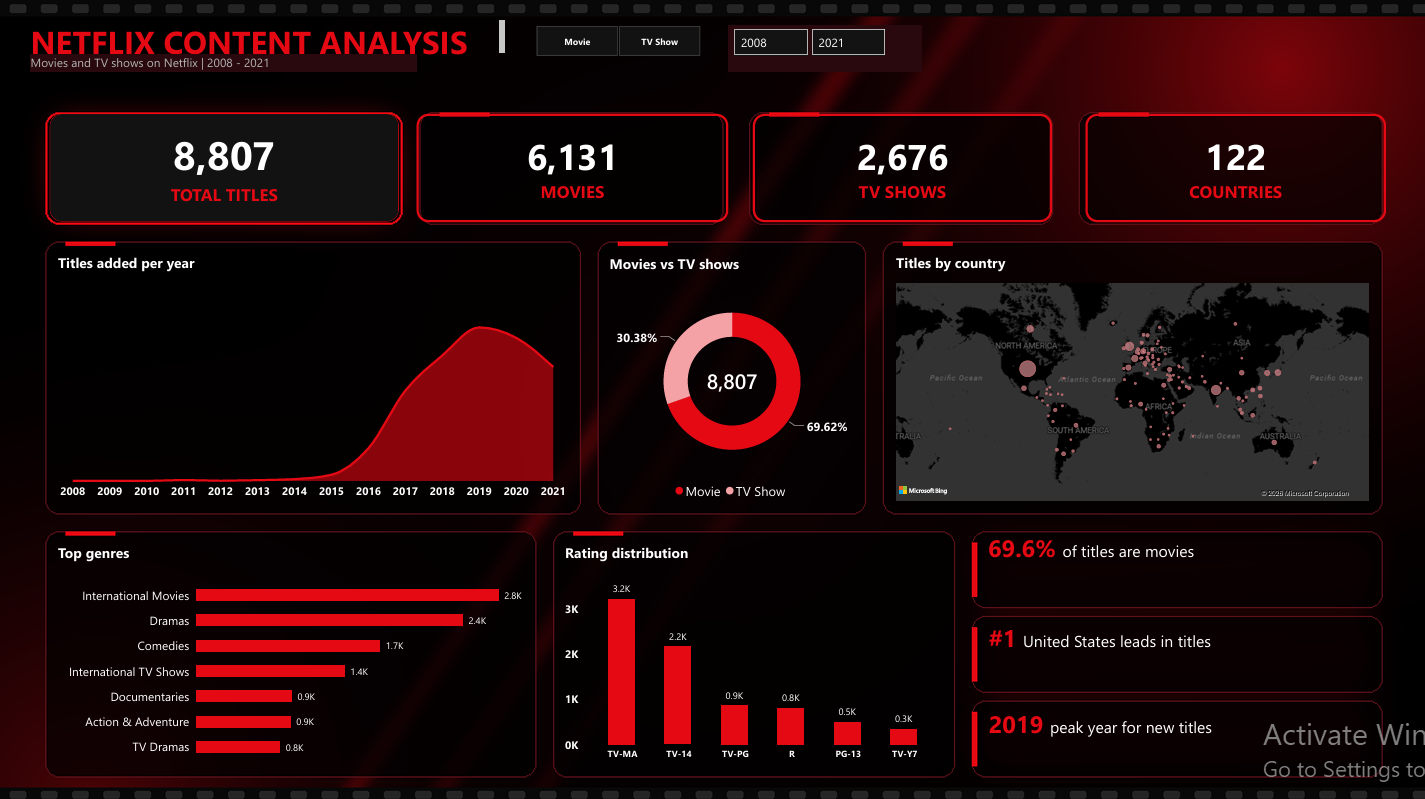

Layout of this report page (visuals, bound fields, positions):
{"tool":"powerbi","page":{"name":"Page 1","canvas":[1920,1080],"ordinal":0},"visuals":[{"type":"textbox","box":[40,26,640,50],"z":0},{"type":"slicer","fields":{"Values":["netflix_clean.type"]},"box":[701,32,260,44],"z":1000},{"type":"textbox","box":[40,72,520,24],"z":3000},{"type":"cardVisual","fields":{"Data":["netflix_clean.Total Titles"]},"box":[65.6,152.4,470,145],"z":4000},{"type":"cardVisual","fields":{"Data":["netflix_clean.Total Movies"]},"box":[560.3,152.4,419.7,145.4],"z":5000},{"type":"cardVisual","fields":{"Data":["netflix_clean.Total Countries"]},"box":[1460.6,152.4,405.6,145.4],"z":6000},{"type":"cardVisual","fields":{"Data":["netflix_clean.Total TV Shows"]},"box":[1012.8,152.4,403.3,145.4],"z":7000},{"type":"areaChart","title":"Titles added per year","fields":{"Category":["netflix_clean.year_added"],"Y":["netflix_clean.Total Titles"]},"box":[60.7,326.4,719.3,364.3],"z":8000},{"type":"donutChart","title":"Movies vs TV shows","fields":{"Category":["netflix_clean.type"],"Y":["netflix_clean.Total Titles"]},"box":[804,326.5,362,364],"z":9000},{"type":"map","title":"Titles by country","fields":{"Category":["netflix_countries.country"],"Size":["CountNonNull(netflix_countries.show_id)"]},"box":[1190,326.2,667.7,363.8],"z":10000},{"type":"clusteredBarChart","title":"Top genres","fields":{"Category":["netflix_genres.genre"],"Y":["CountNonNull(netflix_genres.show_id)"]},"box":[60.7,716,657.3,326.7],"z":11000},{"type":"clusteredColumnChart","title":"Rating distribution","fields":{"Category":["netflix_clean.rating"],"Y":["netflix_clean.Total Titles"]},"box":[744.4,715.6,538.9,326.7],"z":12000},{"type":"textbox","box":[1312,714,548,100],"z":13000},{"type":"textbox","box":[1312.9,834.6,546.3,91.4],"z":14000},{"type":"textbox","box":[1312.9,949.5,546.3,91.4],"z":15000},{"type":"slicer","fields":{"Values":["netflix_clean.year_added"]},"box":[980,32.8,260.2,63.3],"z":15001}]}

Visuals, with their boxes in screenshot pixels (x1, y1, x2, y2), scaled from the page's 1920x1080 canvas onto the 1425x799 screenshot:
textbox: (x1=30, y1=19, x2=505, y2=56)
slicer - netflix_clean.type: (x1=520, y1=24, x2=713, y2=56)
textbox: (x1=30, y1=53, x2=416, y2=71)
cardVisual - netflix_clean.Total Titles: (x1=49, y1=113, x2=398, y2=220)
cardVisual - netflix_clean.Total Movies: (x1=416, y1=113, x2=727, y2=220)
cardVisual - netflix_clean.Total Countries: (x1=1084, y1=113, x2=1385, y2=220)
cardVisual - netflix_clean.Total TV Shows: (x1=752, y1=113, x2=1051, y2=220)
"Titles added per year" areaChart: (x1=45, y1=241, x2=579, y2=511)
"Movies vs TV shows" donutChart: (x1=597, y1=242, x2=865, y2=511)
"Titles by country" map: (x1=883, y1=241, x2=1379, y2=510)
"Top genres" clusteredBarChart: (x1=45, y1=530, x2=533, y2=771)
"Rating distribution" clusteredColumnChart: (x1=552, y1=529, x2=952, y2=771)
textbox: (x1=974, y1=528, x2=1380, y2=602)
textbox: (x1=974, y1=617, x2=1380, y2=685)
textbox: (x1=974, y1=702, x2=1380, y2=770)
slicer - netflix_clean.year_added: (x1=727, y1=24, x2=920, y2=71)
